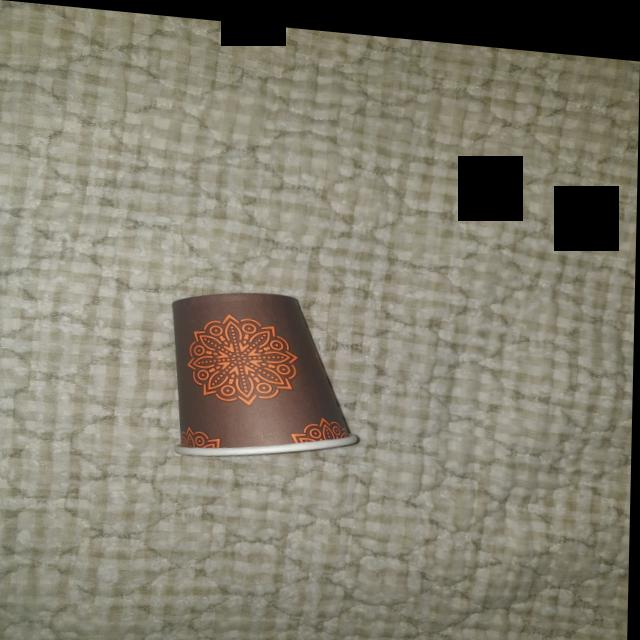cups: (149, 266, 373, 471)
